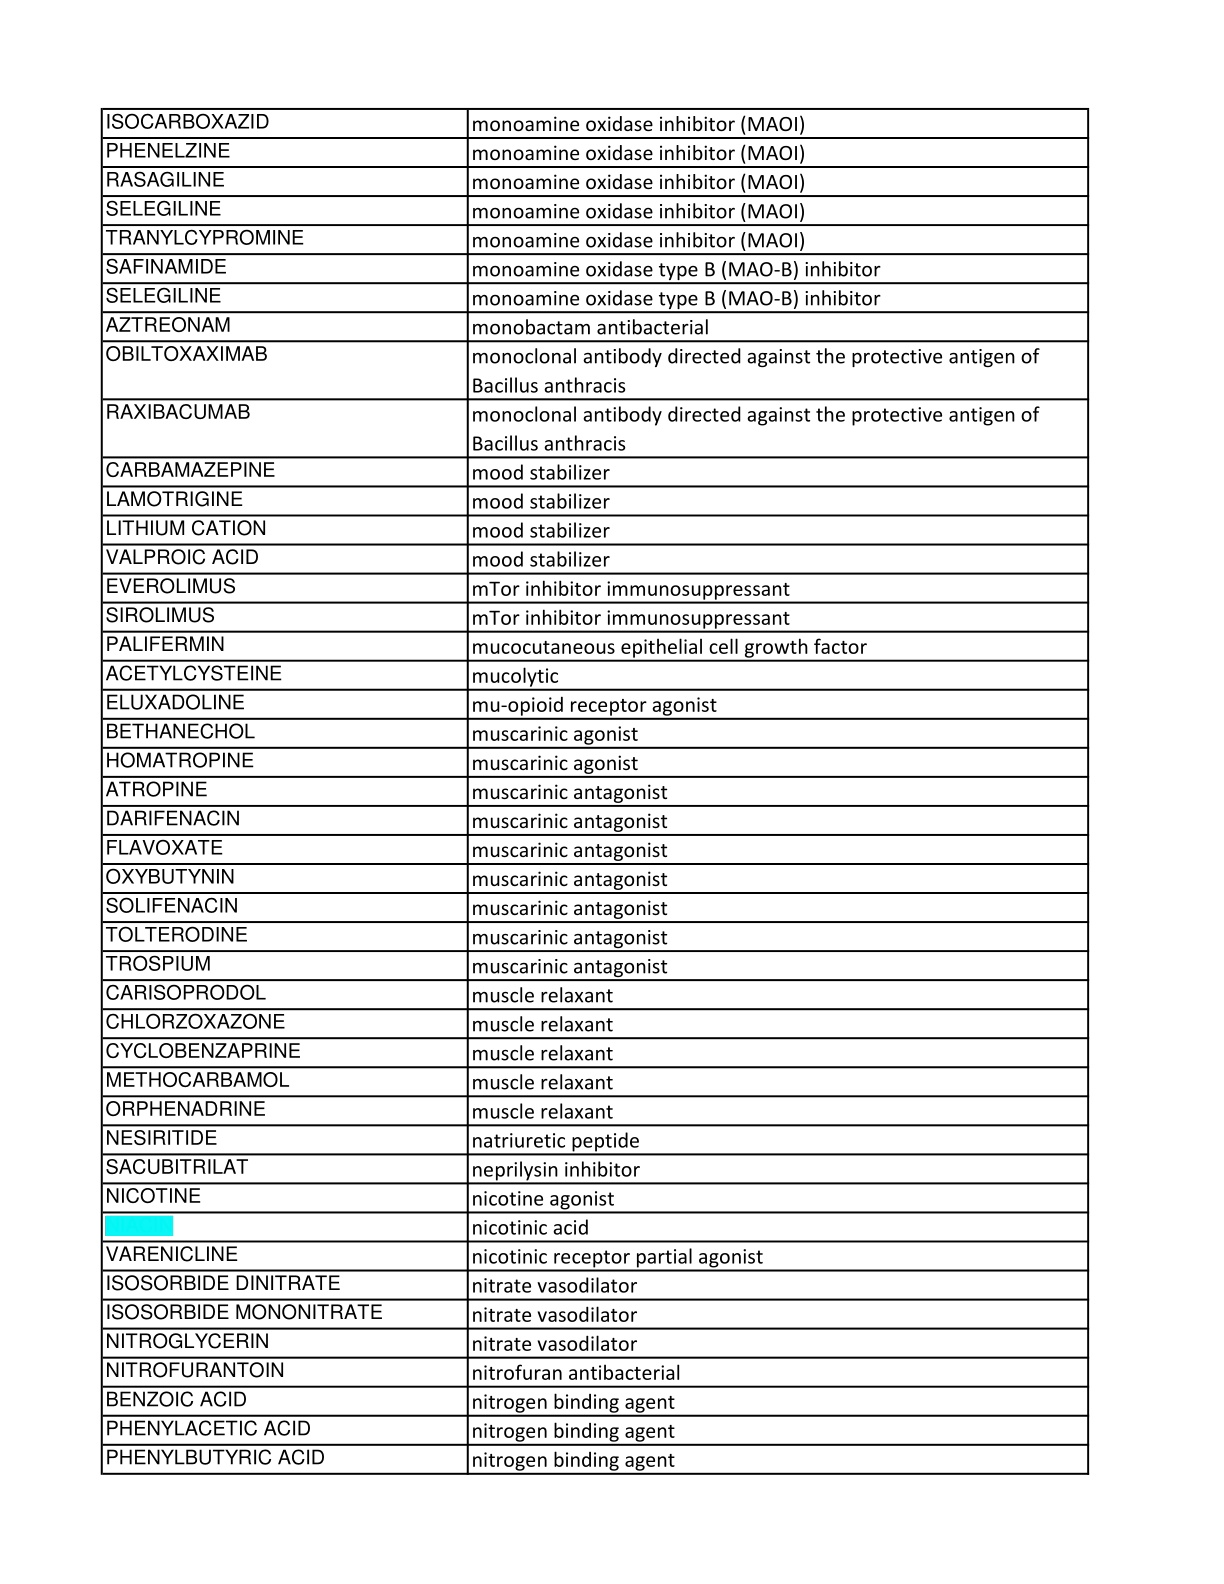full_lined: (99, 108, 1089, 1475)
